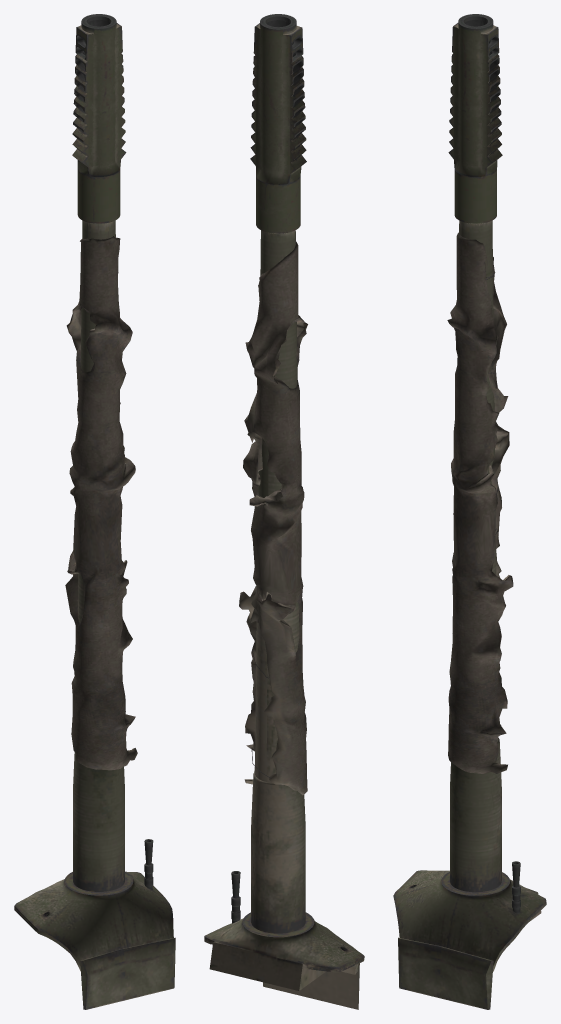
File: Gun_03.glb
3 views of the same model, side by side, from view 1: azimuth 30°, elevation 25°; view 2: azimuth 150°, elevation 25°; view 3: azimuth 330°, elevation 25° (orthographic). The views are drawn at different scales.
Parts seen in each view (by area): view 1: set_0_group_0; view 2: set_0_group_0; view 3: set_0_group_0.
Boxes of the visible parts, left/top/right/bottom form: set_0_group_0: left=14, top=14, right=175, bottom=1009; set_0_group_0: left=204, top=14, right=364, bottom=1009; set_0_group_0: left=393, top=14, right=546, bottom=1009.
Bounding box in the file's own units: 0.9634 × 6.86 × 0.7276.
1 material, 1 textured.
